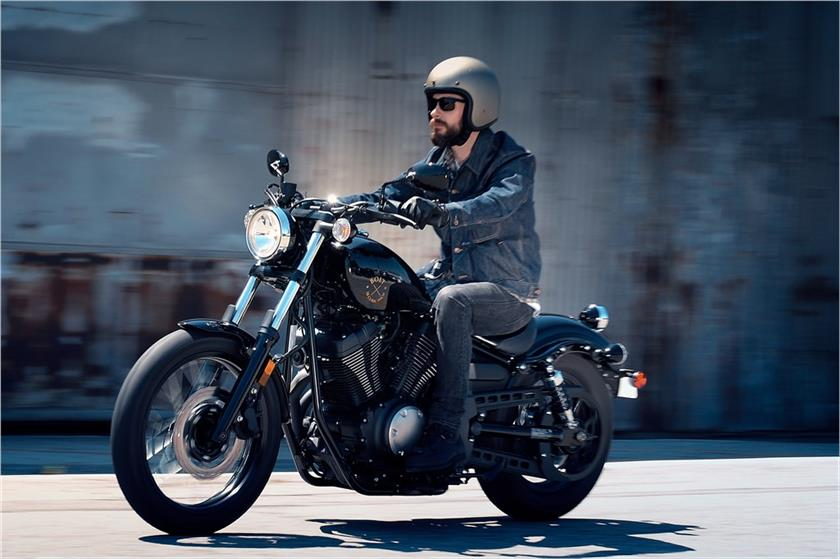helmet: (411, 54, 512, 155)
